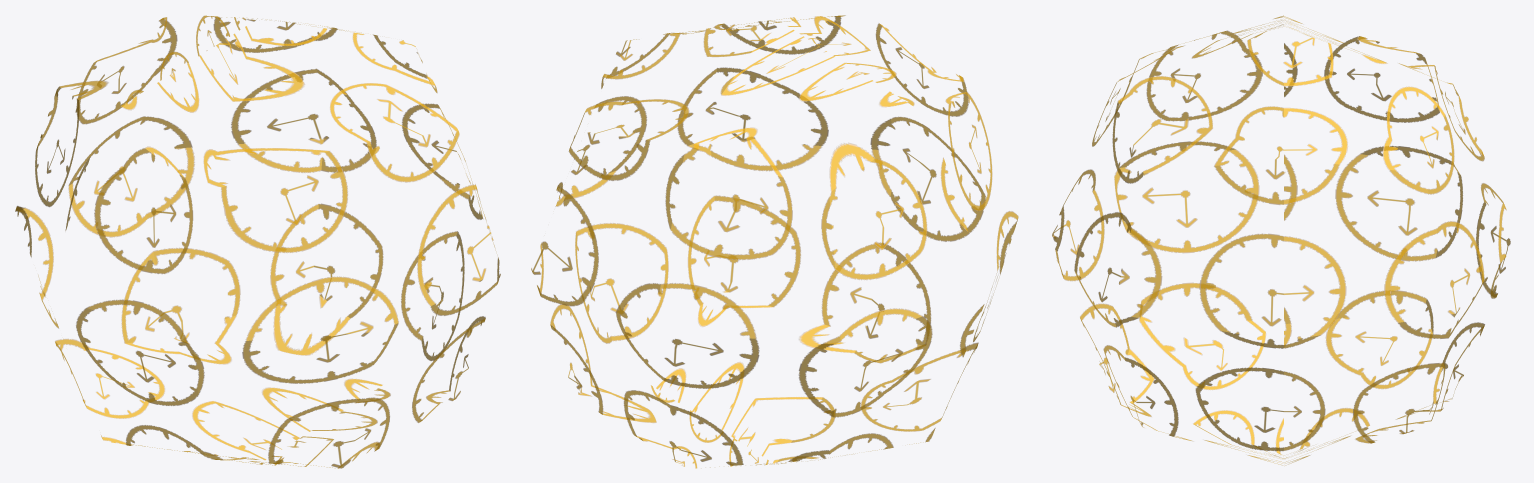
File: time_field.glb
3 views of the same model, side by side, from view 1: azimuth 30°, elevation 25°; view 2: azimuth 150°, elevation 25°; view 3: azimuth 270°, elevation 25° (orthographic). The views are drawn at different scales.
Parts seen in each view (by area): view 1: Cube; view 2: Cube; view 3: Cube.
Part boxes in pixels (<box>): Cube: <box>15,15,500,468</box>; Cube: <box>531,15,1018,468</box>; Cube: <box>1052,15,1510,465</box>.
Size of the model in its own units: 1.99 by 1.99 by 1.99.
1 material, 1 textured.
